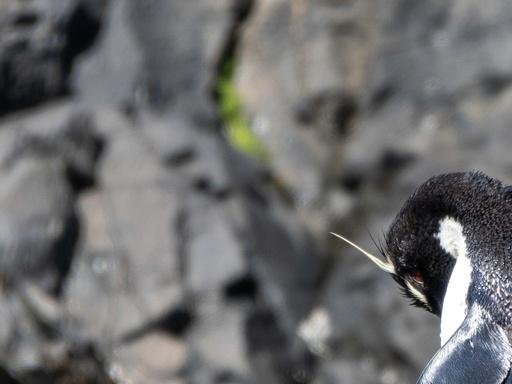Southern Rockhopper Penguin: (331, 148, 512, 384)
